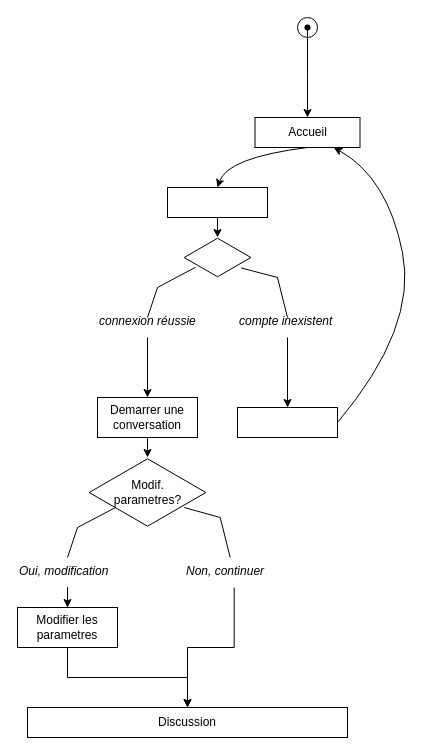
The diagram is 423 pixels wide and 755 high, and some of its shapes have lost their labels. Each missing label, with the centre of its shape:
Creer un compte: the point at 287,422
Se connecter: the point at 217,202
